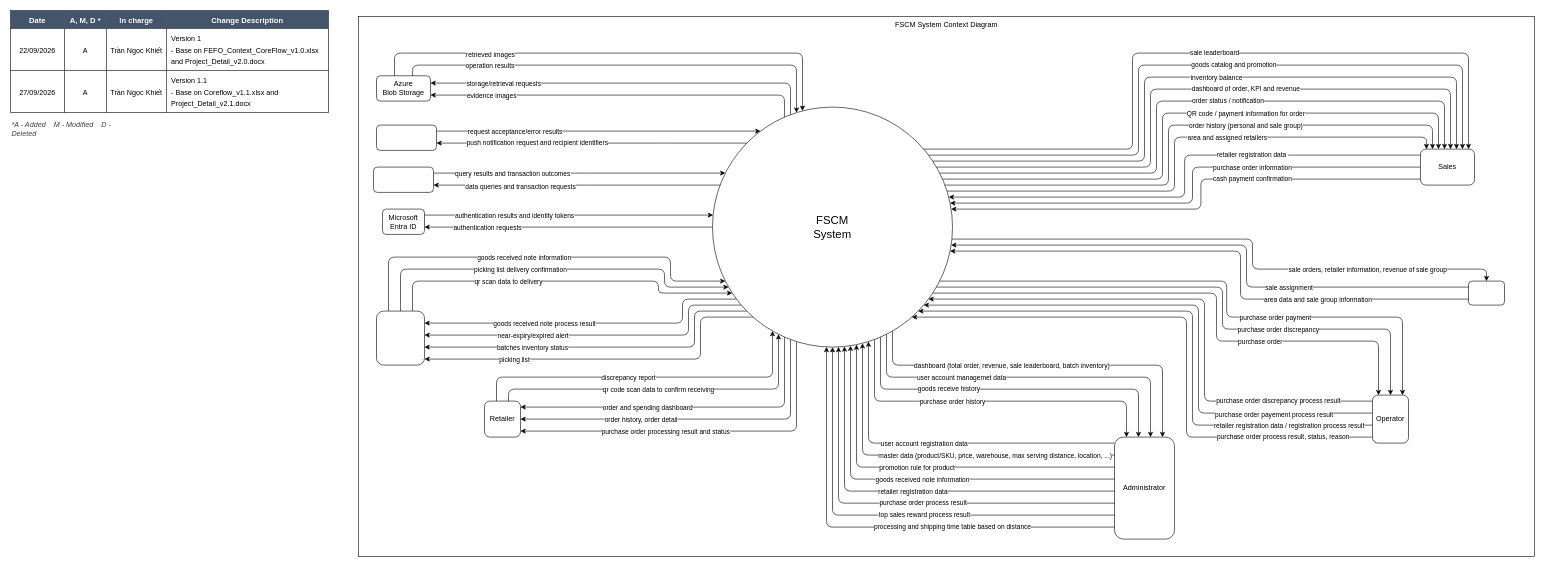
This 1545x567 diagram has some shape labels left out. The centre of each missing label's shape, as x and y in pixels:
Azure Database for PostgreSQL: (403,179)
Azure Notification Hubs: (406,137)
Sales Manager: (1486,292)
Warehouse Keeper: (400,337)
